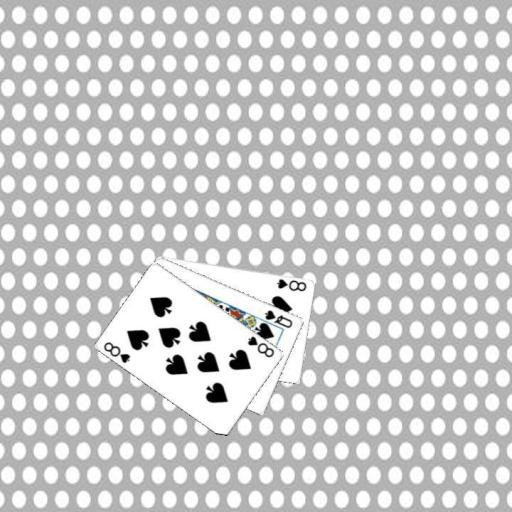card-corner: (100, 338, 132, 365), (245, 333, 276, 359), (262, 306, 294, 330), (274, 275, 308, 293)
